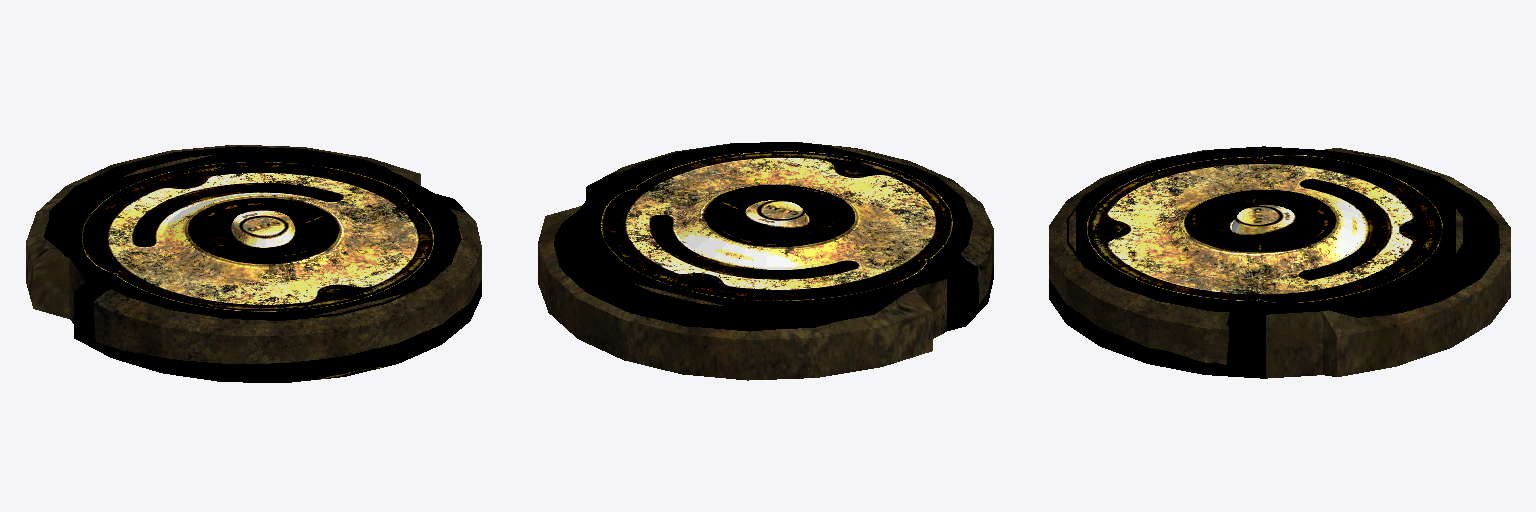
3 views of the same model, side by side, from view 1: azimuth 30°, elevation 25°; view 2: azimuth 150°, elevation 25°; view 3: azimuth 270°, elevation 25° (orthographic).
Visible parts, largest first — view 1: Cylinder008; view 2: Cylinder008; view 3: Cylinder008.
Boxes of the visible parts, box(x1,y1,x2,y2) form: Cylinder008: box(26, 145, 481, 382); Cylinder008: box(538, 142, 993, 380); Cylinder008: box(1049, 146, 1510, 378).
Size of the model in its own units: 81.73 by 15.49 by 84.37.
Materials: 1 (1 with a texture image).